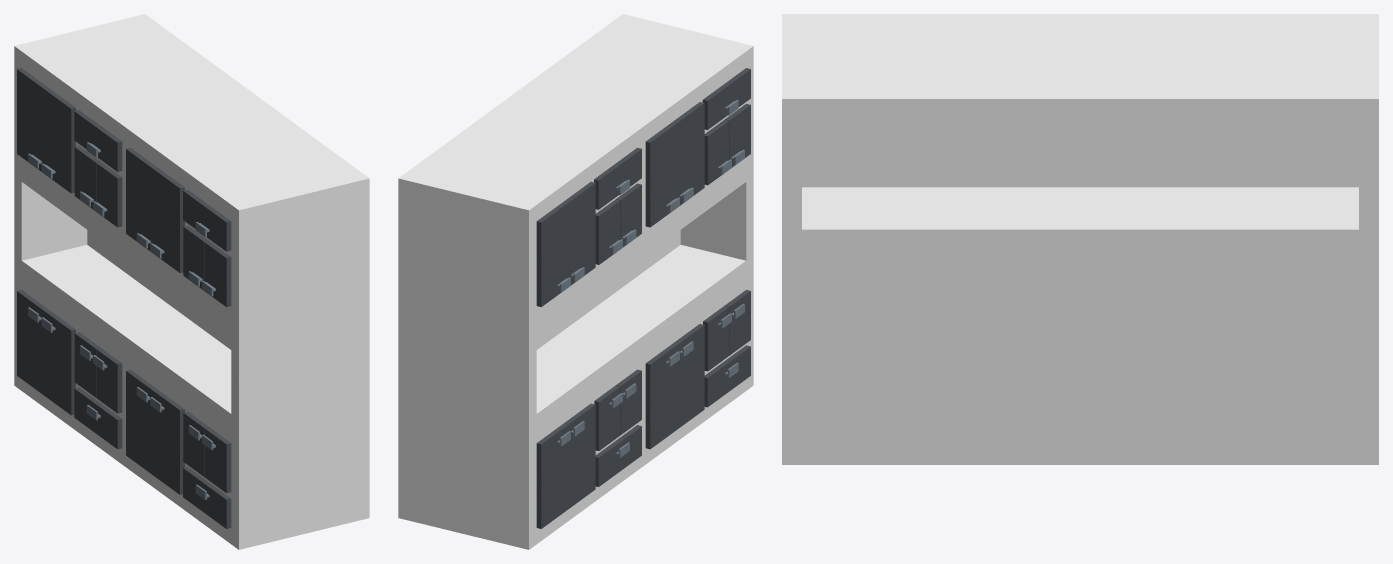
The model's file is medical_cabinet1.fbx.
3 views of the same model, side by side, from view 1: azimuth 30°, elevation 25°; view 2: azimuth 150°, elevation 25°; view 3: azimuth 270°, elevation 25° (orthographic). The views are drawn at different scales.
Visible parts, largest first — view 1: medical_cabinet1; view 2: medical_cabinet1; view 3: medical_cabinet1.
Part boxes in pixels (bbox=[...]): medical_cabinet1: bbox=[14, 14, 369, 549]; medical_cabinet1: bbox=[398, 14, 753, 549]; medical_cabinet1: bbox=[782, 14, 1378, 464].
Bounding box in the file's own units: 107 × 248 × 297.
1 material, 1 textured.
